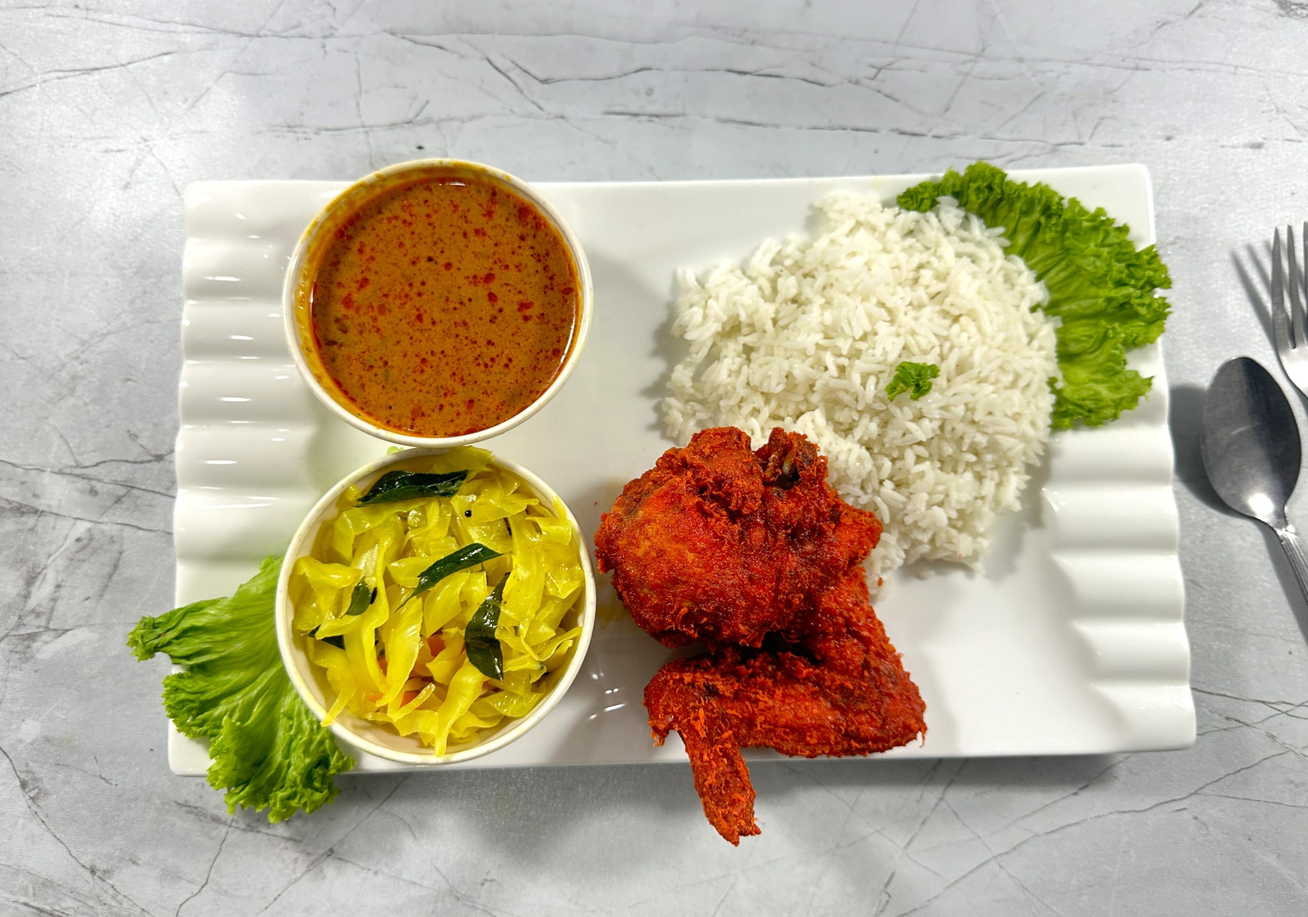buah_sayur_lainnya: (355, 547, 530, 660), (1055, 238, 1124, 331)
daging: (685, 491, 850, 706)
kacang_legume: (378, 228, 494, 380)
makanan_berpati: (795, 274, 1019, 426)
